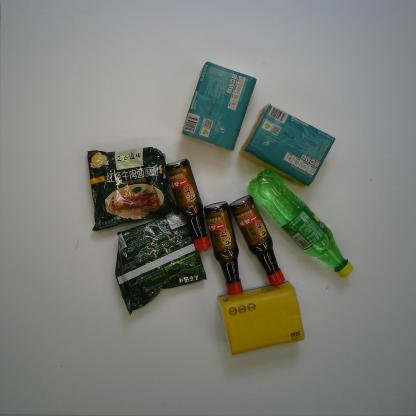Drink: (246, 167, 354, 278)
Instant Noodles: (114, 207, 208, 316), (86, 146, 178, 233)
Seasoner: (228, 195, 286, 287), (165, 157, 210, 252), (202, 200, 244, 297)
Tissue: (237, 102, 337, 188), (180, 60, 258, 152), (216, 279, 306, 357)
